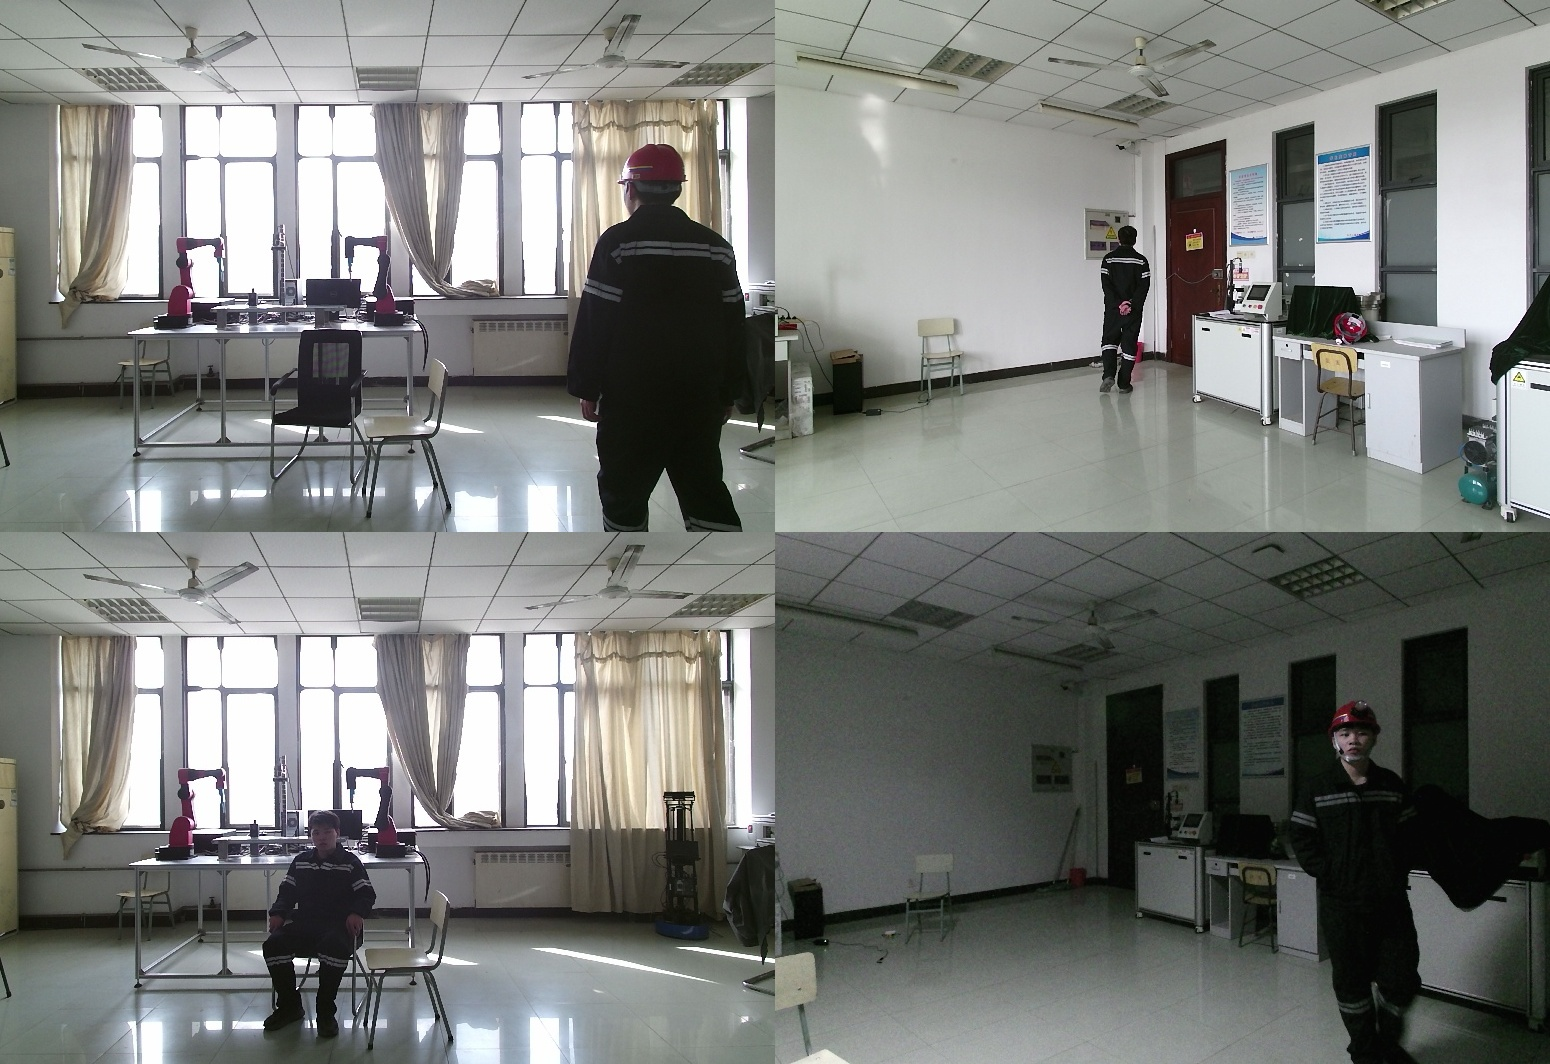person: (575, 145, 758, 532), (1287, 700, 1430, 1064), (261, 812, 383, 1030), (1093, 226, 1154, 401)
